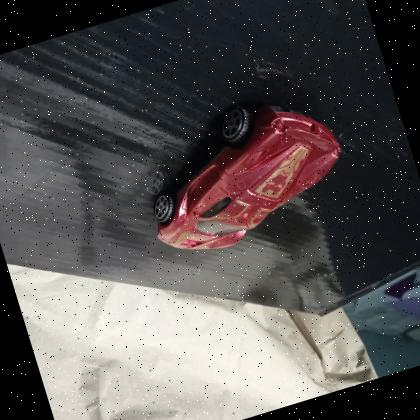Car: (123, 75, 367, 271)
